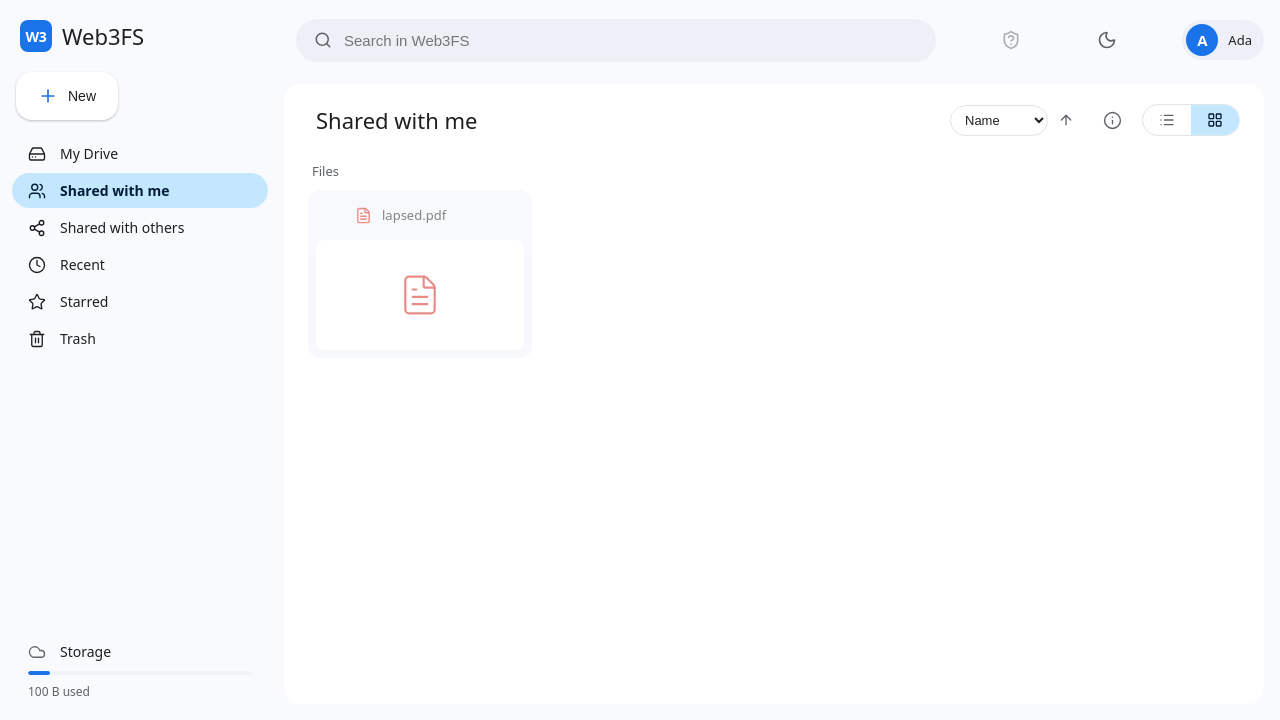
clicking an expired share opens the request dialog, not the preview
Click the element showing "lapsed.pdf" at coordinates (420, 274), box x1=308 y1=190 x2=532 y2=358
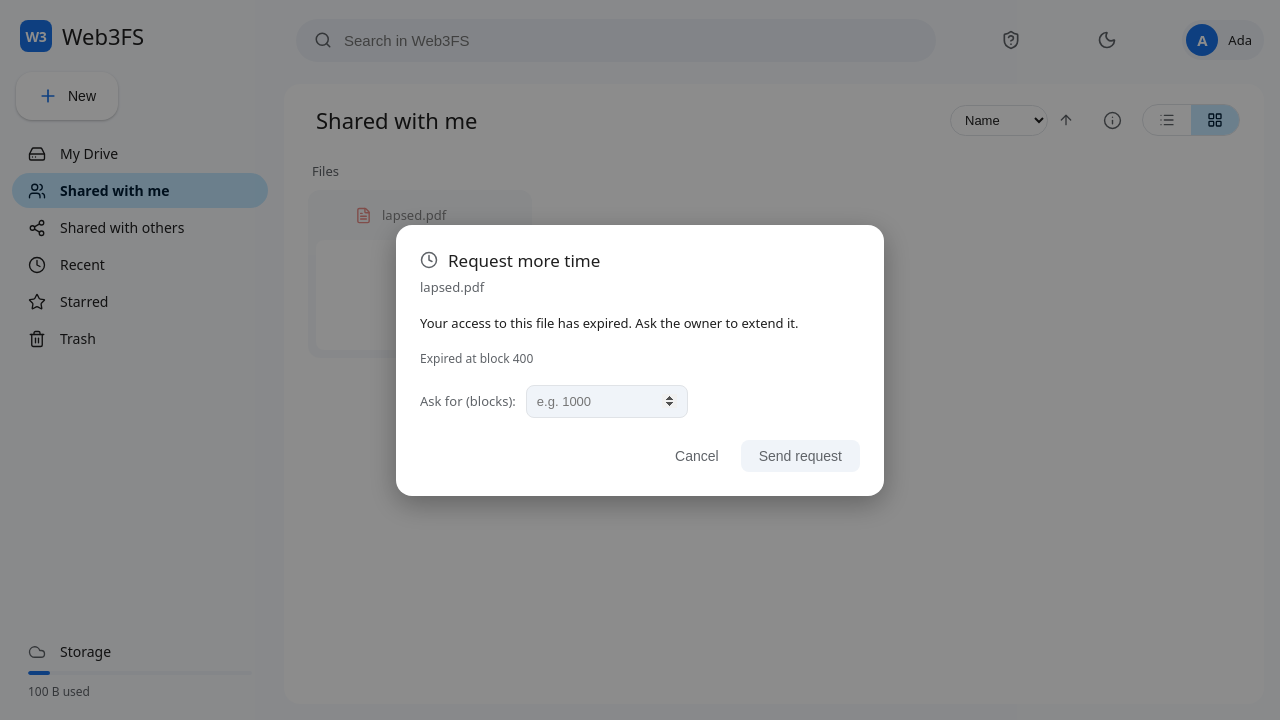
Expected: the text "Request more time" is shown, x1=448 y1=248 x2=600 y2=272
Expected: the text "access to this file has expired" is shown, x1=420 y1=314 x2=798 y2=332
